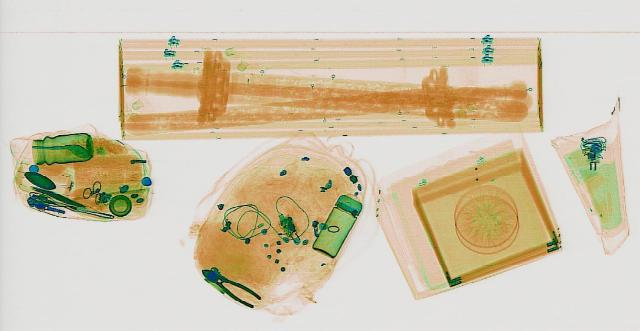Pliers: (192, 265, 268, 308)
